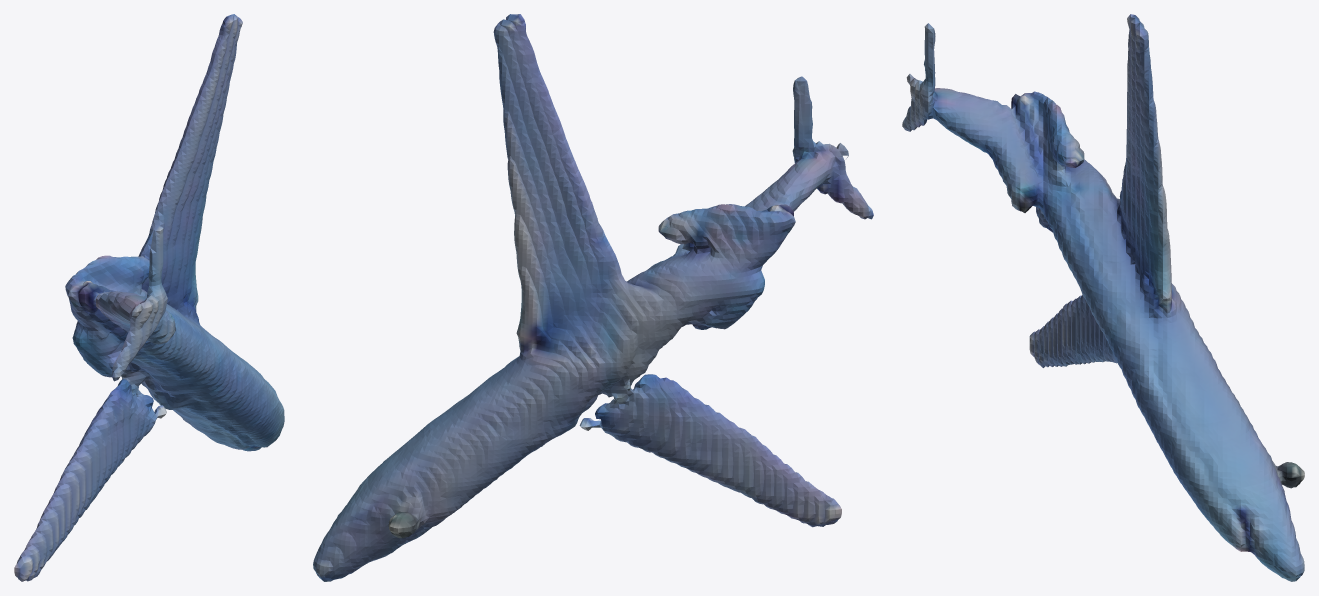
Rendered from 000004_aircraft_jet_airplane.glb.
3 renders of one model, left to right at view 1: azimuth 30°, elevation 25°; view 2: azimuth 150°, elevation 25°; view 3: azimuth 270°, elevation 25°, orthographic. The views are drawn at different scales.
Visible parts, largest first — view 1: world; view 2: world; view 3: world.
Boxes of the visible parts, bbox=[...] form: world: bbox=[14, 14, 284, 581]; world: bbox=[313, 14, 873, 581]; world: bbox=[902, 14, 1304, 581].
Size of the model in its own units: 0.6534 by 0.8447 by 0.5981.
